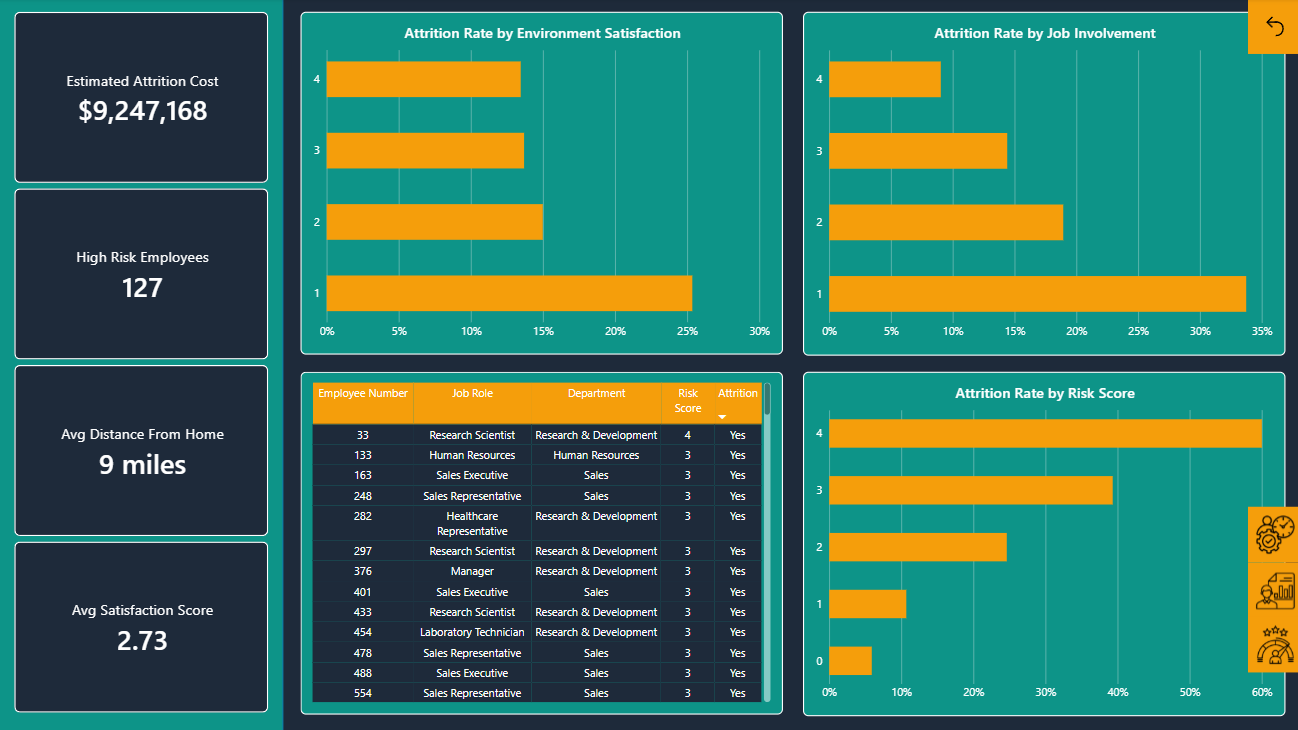

Layout of this report page (visuals, bound fields, positions):
{"tool":"powerbi","page":{"name":"Satisfaction & Risk Factors","canvas":[1920,1080],"ordinal":2},"visuals":[{"type":"shape","box":[0,0,420,1080],"z":0},{"type":"actionButton","box":[1840,750,80,82.5],"z":0,"group":"g1"},{"type":"clusteredBarChart","fields":{"Category":["HR_Employee_Attrition.EnvironmentSatisfaction"],"Y":["_Measures.Attrition Rate"]},"box":[445,20,710,505],"z":1000},{"type":"actionButton","box":[1840,832.5,80,82.5],"z":1000,"group":"g1"},{"type":"clusteredBarChart","fields":{"Category":["HR_Employee_Attrition.Risk Score"],"Y":["_Measures.Attrition Rate"]},"box":[1185,550,710,507.5],"z":2000},{"type":"actionButton","box":[1840,912,80,82],"z":2000,"group":"g1"},{"type":"tableEx","title":"High Risk Employees","fields":{"Values":["HR_Employee_Attrition.EmployeeNumber","HR_Employee_Attrition.JobRole","HR_Employee_Attrition.Department","HR_Employee_Attrition.Risk Score","HR_Employee_Attrition.Attrition"]},"box":[445,550,710,505],"z":3000},{"type":"clusteredBarChart","title":"Attrition Rate by Job Involvement","fields":{"Category":["HR_Employee_Attrition.JobInvolvement"],"Y":["_Measures.Attrition Rate"]},"box":[1186,20,710,506],"z":7001},{"type":"group","id":"g1","title":"Group 1","box":[1840,750,80,244],"z":7501},{"type":"actionButton","box":[1840,0,80,82.5],"z":8001},{"type":"cardVisual","fields":{"Data":["_Measures.Estimated Attrition Cost","_Measures.High Risk Employees","_Measures.Avg Distance From Home","_Measures.Avg Satisfaction Score"]},"box":[24,20,374,1034],"z":8002}]}

Visuals, with their boxes in screenshot pixels (x1, y1, x2, y2), scaled from the page's 1920x1080 canvas onto the 1298x730 screenshot:
shape: 0:0:284:729
actionButton: 1244:507:1297:563
clusteredBarChart - HR_Employee_Attrition.EnvironmentSatisfaction x _Measures.Attrition Rate: 301:14:781:355
actionButton: 1244:563:1297:618
clusteredBarChart - HR_Employee_Attrition.Risk Score x _Measures.Attrition Rate: 801:372:1281:715
actionButton: 1244:616:1297:672
"High Risk Employees" tableEx: 301:372:781:713
"Attrition Rate by Job Involvement" clusteredBarChart: 802:14:1282:356
"Group 1" group: 1244:507:1297:672
actionButton: 1244:0:1297:56
cardVisual - _Measures.Estimated Attrition Cost x _Measures.High Risk Employees: 16:14:269:712
